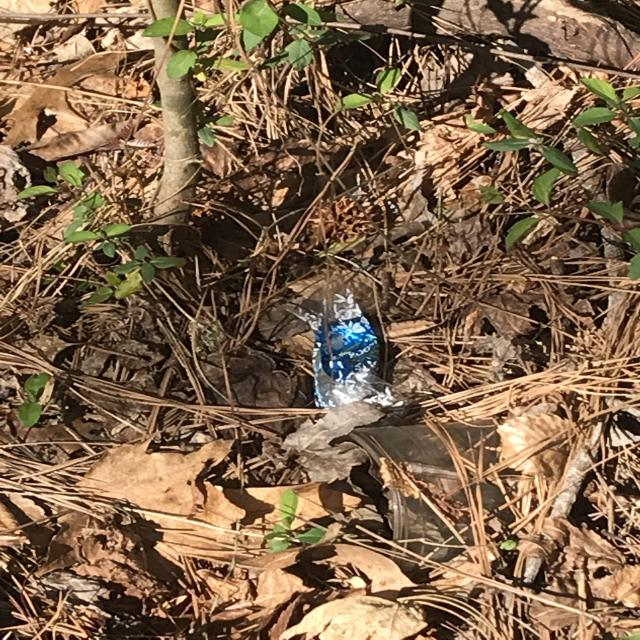litter: (380, 172, 566, 266)
